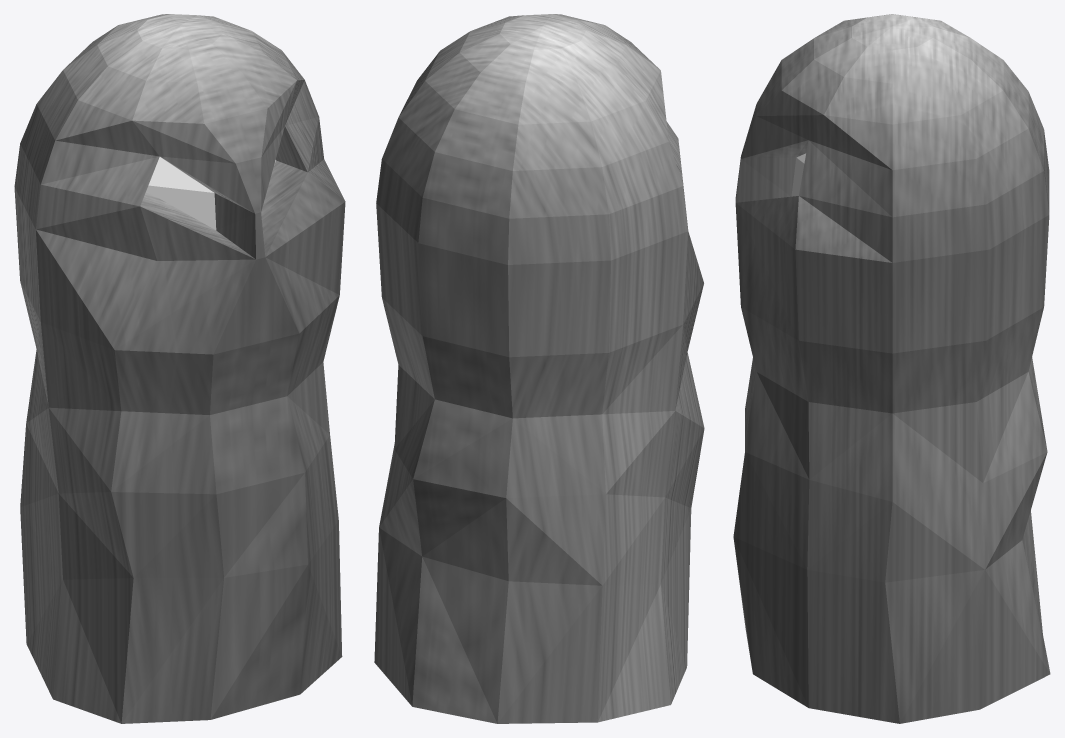
The model's file is Ghost2.glb.
3 views of the same model, side by side, from view 1: azimuth 30°, elevation 25°; view 2: azimuth 150°, elevation 25°; view 3: azimuth 270°, elevation 25° (orthographic).
Parts seen in each view (by area): view 1: ghost3d; view 2: ghost3d; view 3: ghost3d.
Part boxes in pixels (<box>): ghost3d: <box>14,14,345,723</box>; ghost3d: <box>374,14,704,723</box>; ghost3d: <box>733,14,1050,723</box>.
Size of the model in its own units: 23.17 by 47.92 by 21.62.
2 materials, 1 textured.
